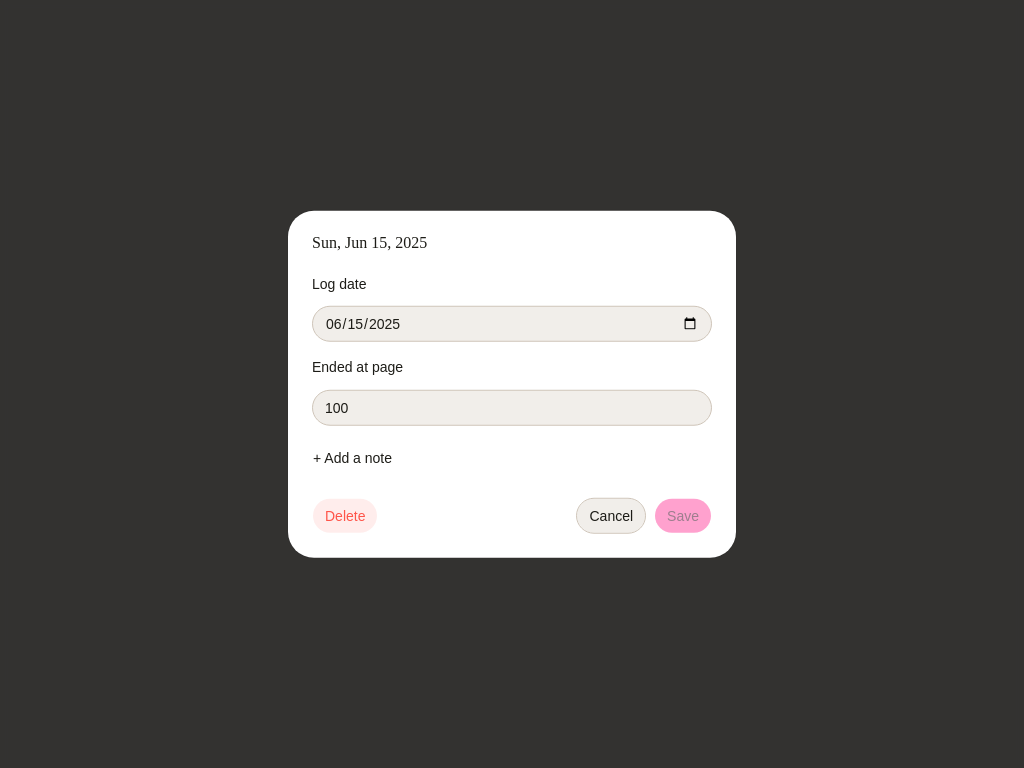
Scenario: EntryEditSheet › surfaces the server’s reason when a save is refused
Type "2024-01-01" into the date field labelled "Log date" at [512, 324], box top-left (312, 306), bottom-right (712, 342)
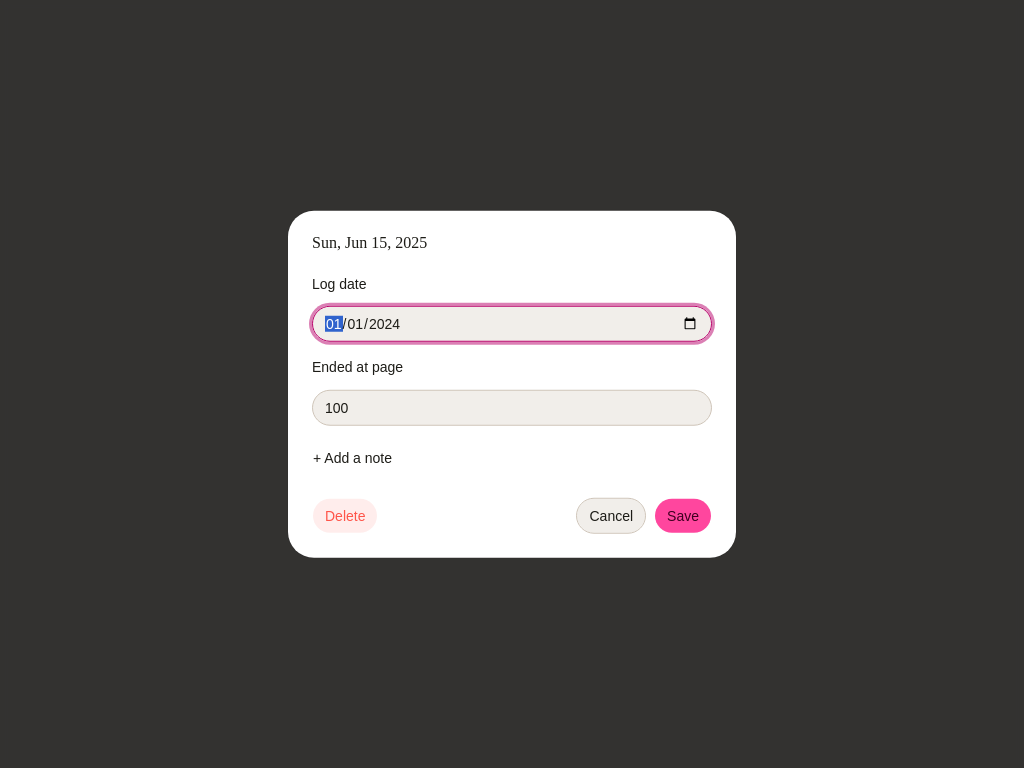
Click the button "Save" at [683, 515], box top-left (654, 497), bottom-right (712, 533)
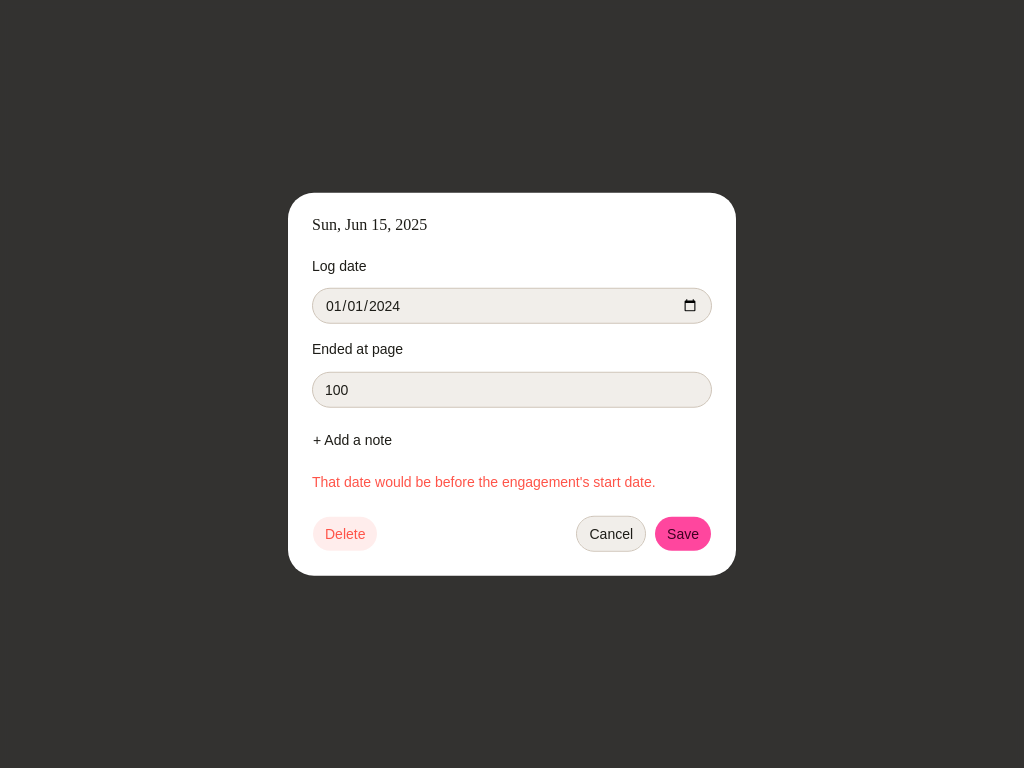
expect the message reads "That date would be before the engagement's start date.": met, box top-left (312, 473), bottom-right (656, 489)
